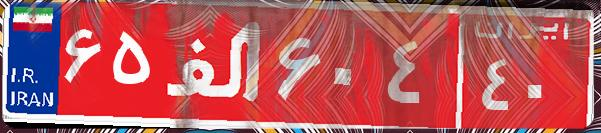0: (330, 28, 385, 110), (525, 38, 570, 115)
4: (385, 28, 445, 110), (475, 38, 525, 113)
5: (110, 28, 158, 105)
6: (273, 28, 330, 110), (57, 26, 110, 107)
الف: (158, 15, 273, 115)
